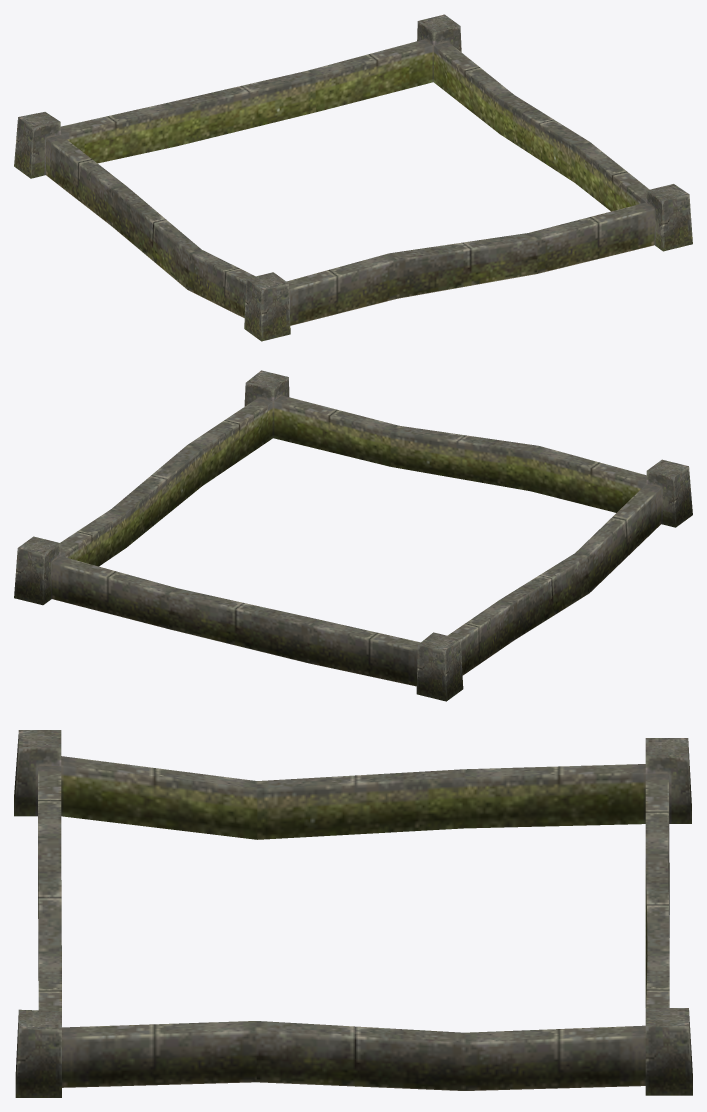
The picture shows the model from 3 angles, top to bottom: view 1: azimuth 30°, elevation 25°; view 2: azimuth 150°, elevation 25°; view 3: azimuth 270°, elevation 25°; orthographic projection. The views are drawn at different scales.
Visible parts, largest first — view 1: OM_26_sn_T03obj01B; view 2: OM_26_sn_T03obj01B; view 3: OM_26_sn_T03obj01B.
Boxes of the visible parts, <box> form: OM_26_sn_T03obj01B: <box>14,14,692,341</box>; OM_26_sn_T03obj01B: <box>14,370,692,701</box>; OM_26_sn_T03obj01B: <box>14,730,692,1097</box>.
Size of the model in its own units: 6.66 by 0.9789 by 6.6.
Materials: 1 (1 with a texture image).
